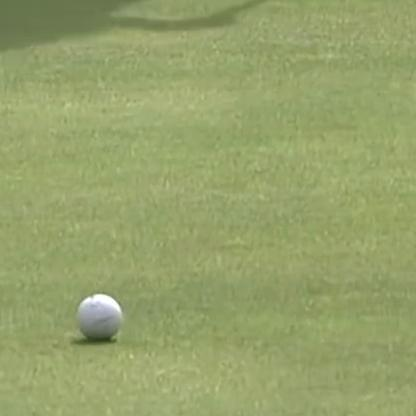golfball: (76, 288, 124, 339)
